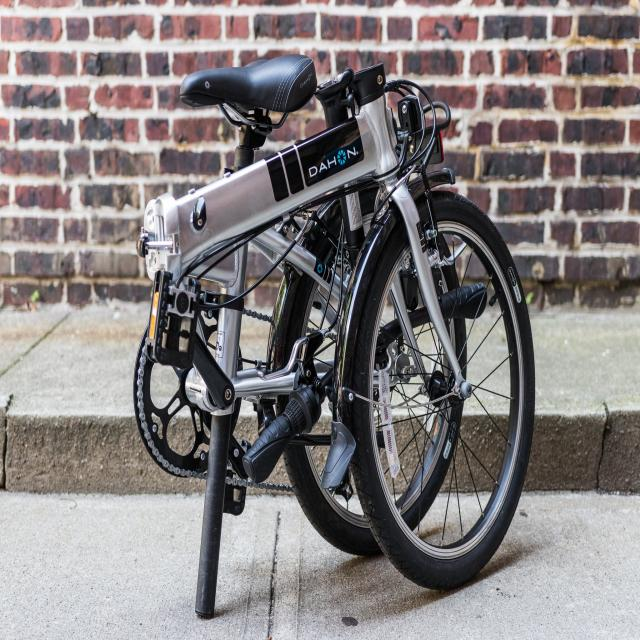folding-bike: (124, 46, 541, 623)
